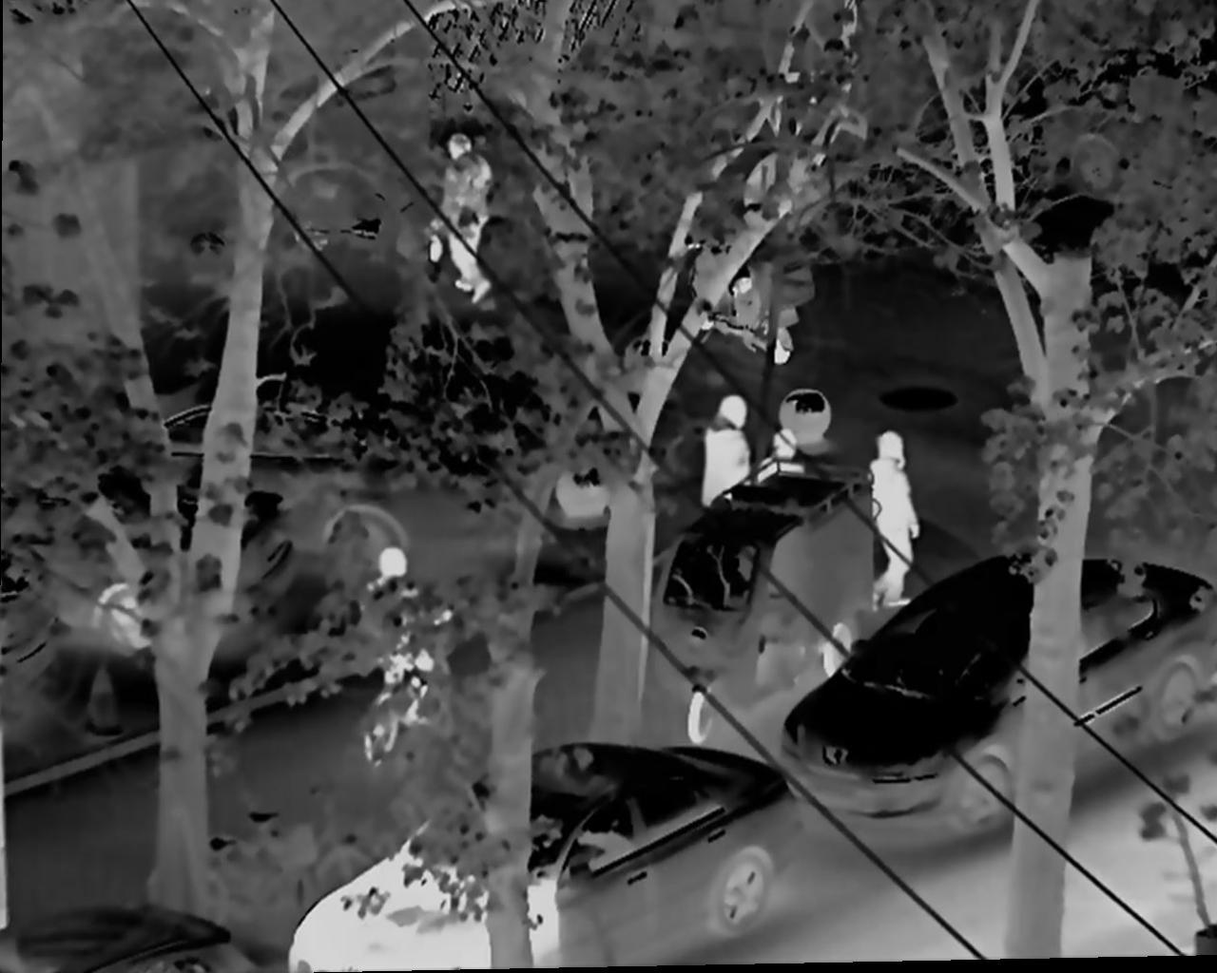person: (355, 545, 467, 726), (425, 133, 496, 307), (865, 413, 924, 610), (702, 392, 750, 531), (760, 423, 807, 493)
